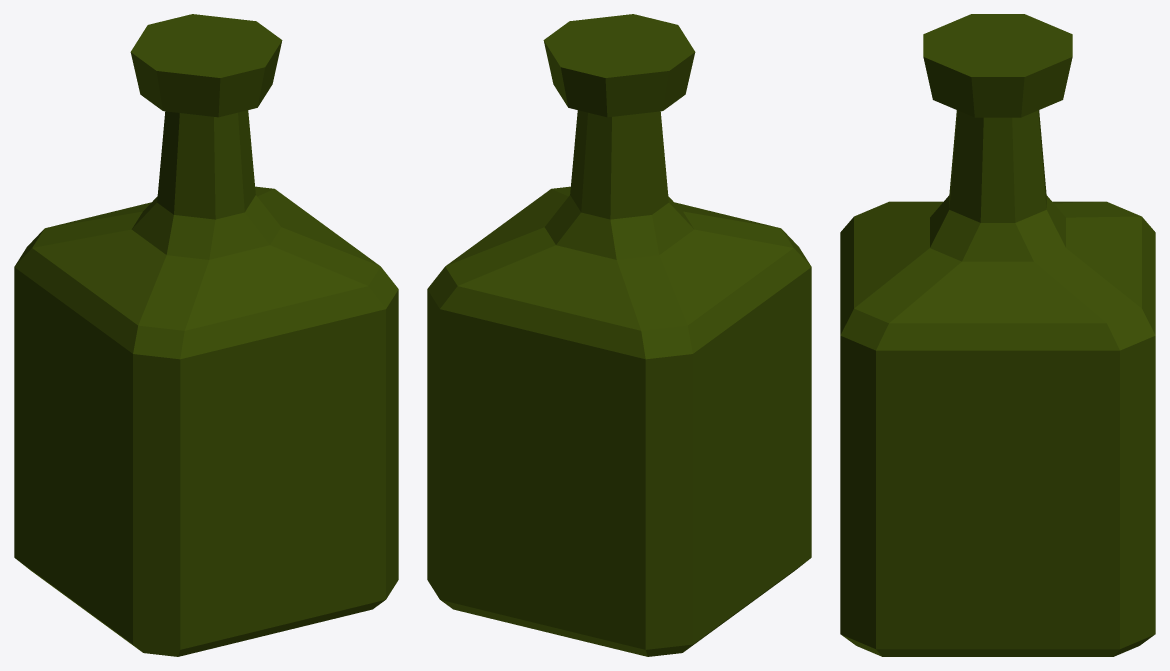
Rendered from LP_PostApoc_GlassBottleB.fbx.
The picture shows the model from 3 angles, left to right: view 1: azimuth 30°, elevation 25°; view 2: azimuth 150°, elevation 25°; view 3: azimuth 270°, elevation 25°; orthographic projection. The views are drawn at different scales.
Visible parts, largest first — view 1: GlassBottleB; view 2: GlassBottleB; view 3: GlassBottleB.
Part boxes in pixels (x1,y1,x2,y2): GlassBottleB: [14, 14, 398, 656]; GlassBottleB: [427, 14, 811, 656]; GlassBottleB: [840, 14, 1155, 656].
Size of the model in its own units: 15.34 by 29.61 by 15.34.
